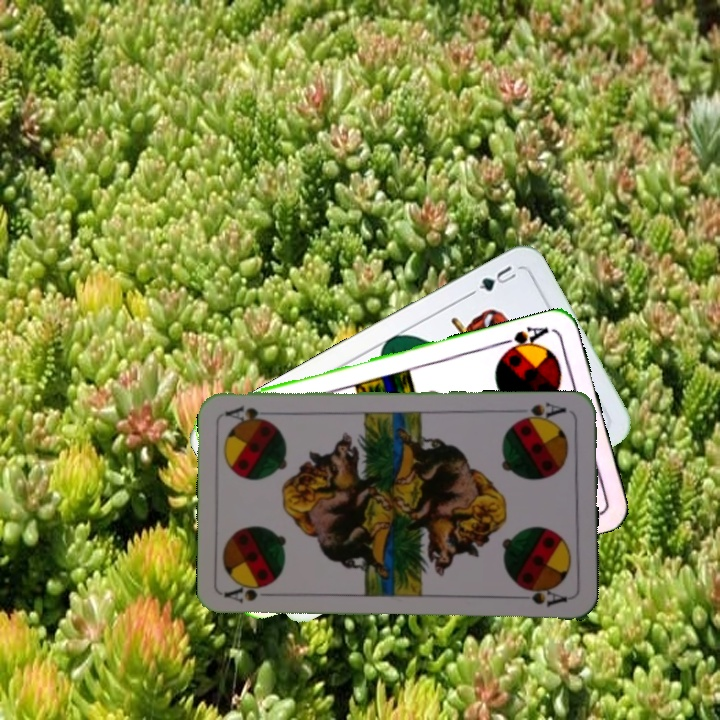GU: (466, 261, 519, 298)
SA: (496, 322, 552, 357), (512, 398, 568, 425), (222, 583, 281, 606)
